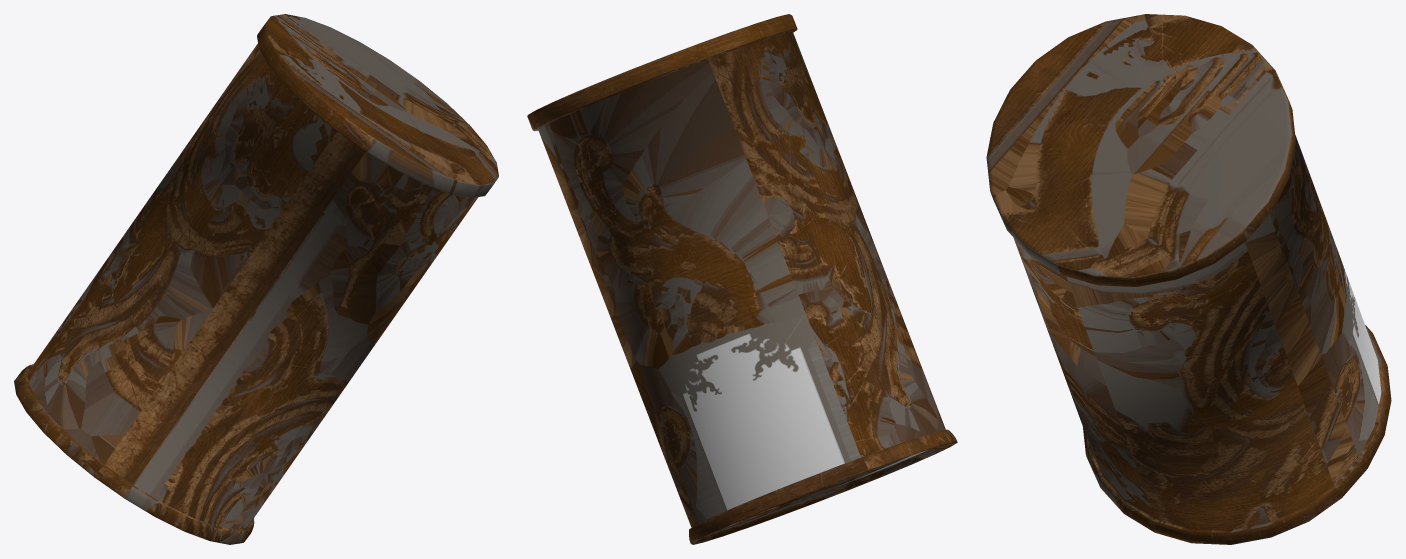
Rendered from can.fbx.
3 renders of one model, left to right at view 1: azimuth 30°, elevation 25°; view 2: azimuth 150°, elevation 25°; view 3: azimuth 270°, elevation 25°, orthographic. The views are drawn at different scales.
Parts seen in each view (by area): view 1: Can_low; view 2: Can_low; view 3: Can_low.
Boxes of the visible parts, x1,y1,x2,y2 form: Can_low: (14,14,498,544); Can_low: (527,14,957,544); Can_low: (986,14,1391,544).
Bounding box in the file's own units: 3.96 × 4.43 × 3.03.
